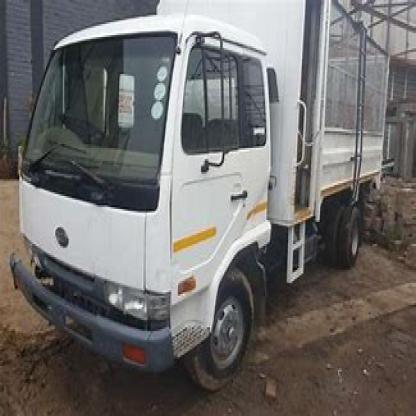dump_truck: (12, 9, 414, 394)
